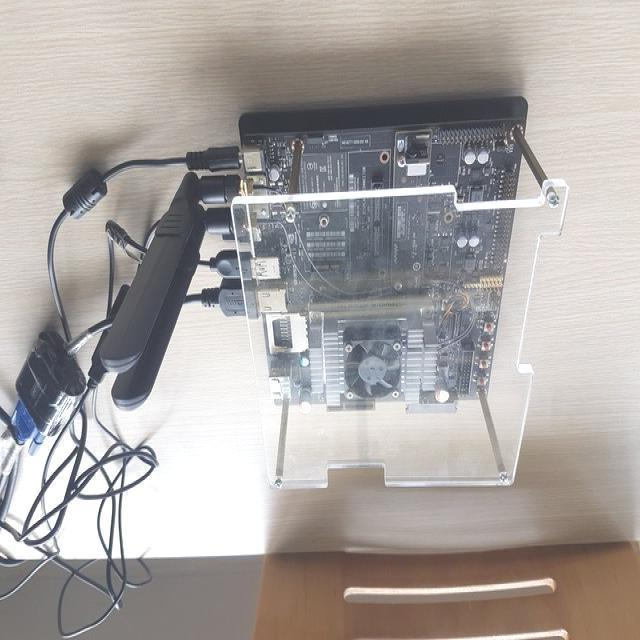Jetson TX2: (101, 99, 528, 413)
